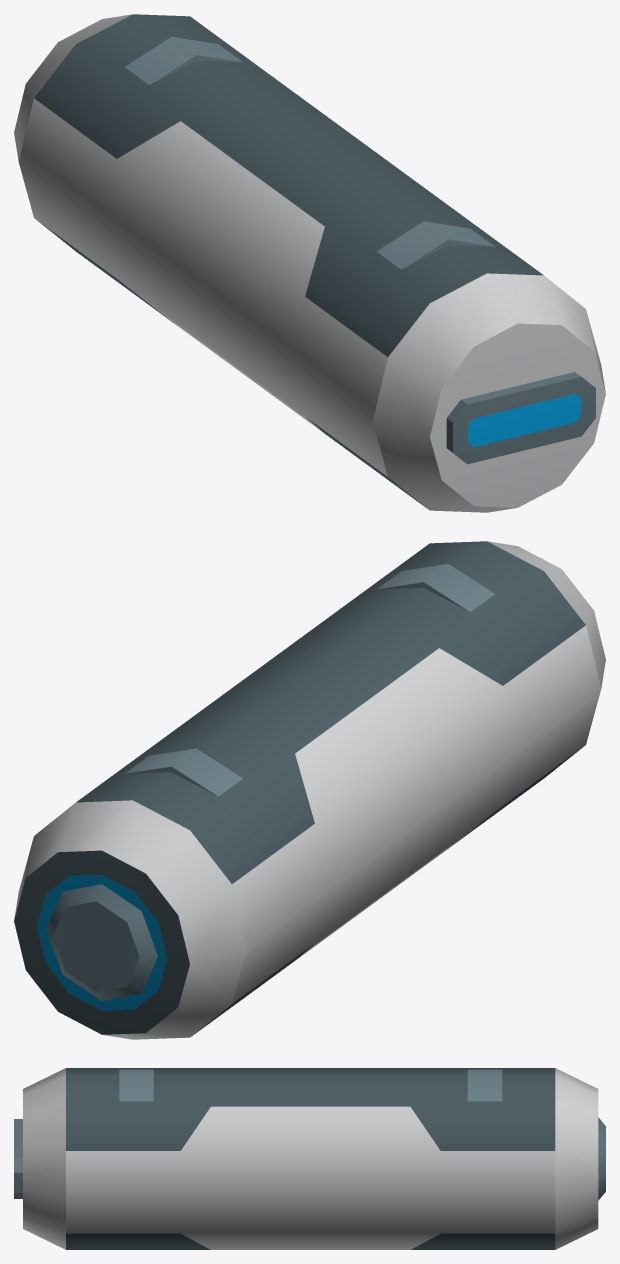
Rendered from Baloon_004.fbx.
3 views of the same model, one above another, from view 1: azimuth 30°, elevation 25°; view 2: azimuth 150°, elevation 25°; view 3: azimuth 270°, elevation 25° (orthographic). The views are drawn at different scales.
Visible parts, largest first — view 1: Baloon_004; view 2: Baloon_004; view 3: Baloon_004.
Part boxes in pixels (x1,y1,x2,y2): Baloon_004: (14, 14, 605, 512); Baloon_004: (14, 541, 605, 1039); Baloon_004: (14, 1068, 605, 1249).
Size of the model in its own units: 40 by 130 by 40.94.
